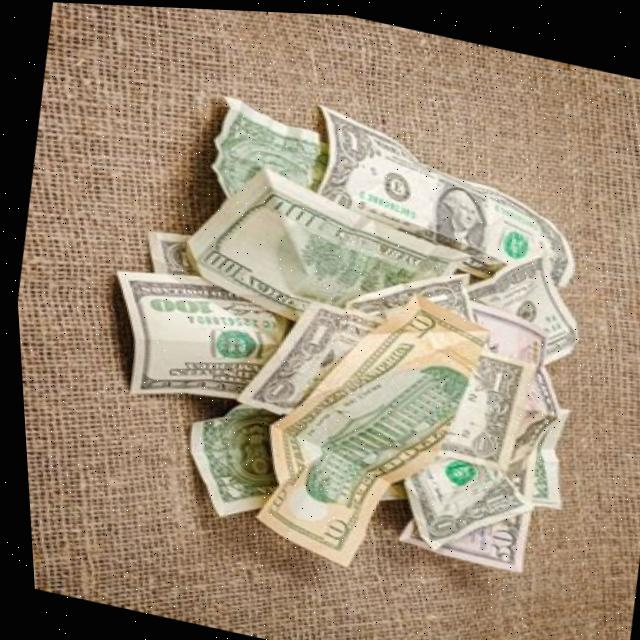banknote: (228, 257, 504, 591), (164, 145, 484, 367), (289, 99, 590, 303), (236, 287, 540, 472), (375, 324, 570, 575), (90, 252, 304, 423), (192, 89, 338, 225), (449, 239, 591, 374), (169, 382, 287, 531), (512, 397, 577, 510), (253, 179, 329, 234), (137, 219, 198, 282), (192, 235, 260, 289), (141, 283, 218, 325), (485, 249, 543, 299), (307, 508, 354, 554), (471, 518, 519, 563), (293, 310, 338, 352), (204, 461, 245, 504), (253, 369, 295, 407), (474, 353, 512, 395), (393, 304, 436, 340), (470, 477, 514, 512), (221, 106, 259, 145), (156, 236, 192, 276), (253, 484, 288, 522), (526, 208, 566, 239), (416, 505, 458, 534), (314, 178, 351, 208), (334, 119, 365, 153)
